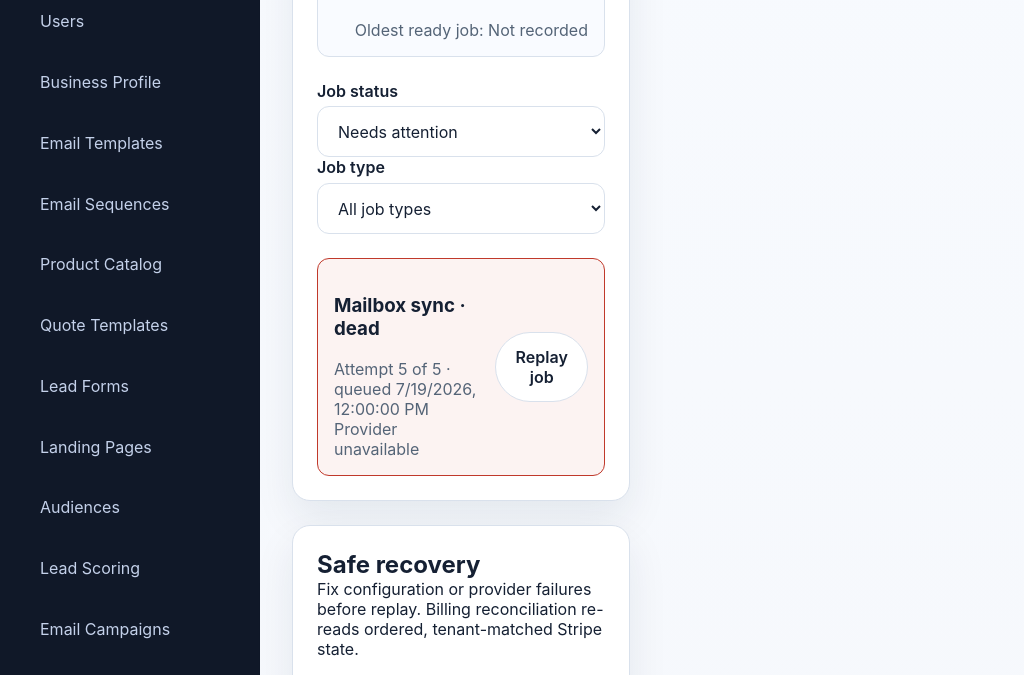
Test case: settings operations route › shows job health and lets an admin replay a safe dead job
(page scrolled)
Check: the text "Provider unavailable" is shown, box left=334, top=419, right=419, bottom=459
Click the button "Replay job" at (542, 367), box left=495, top=332, right=588, bottom=402
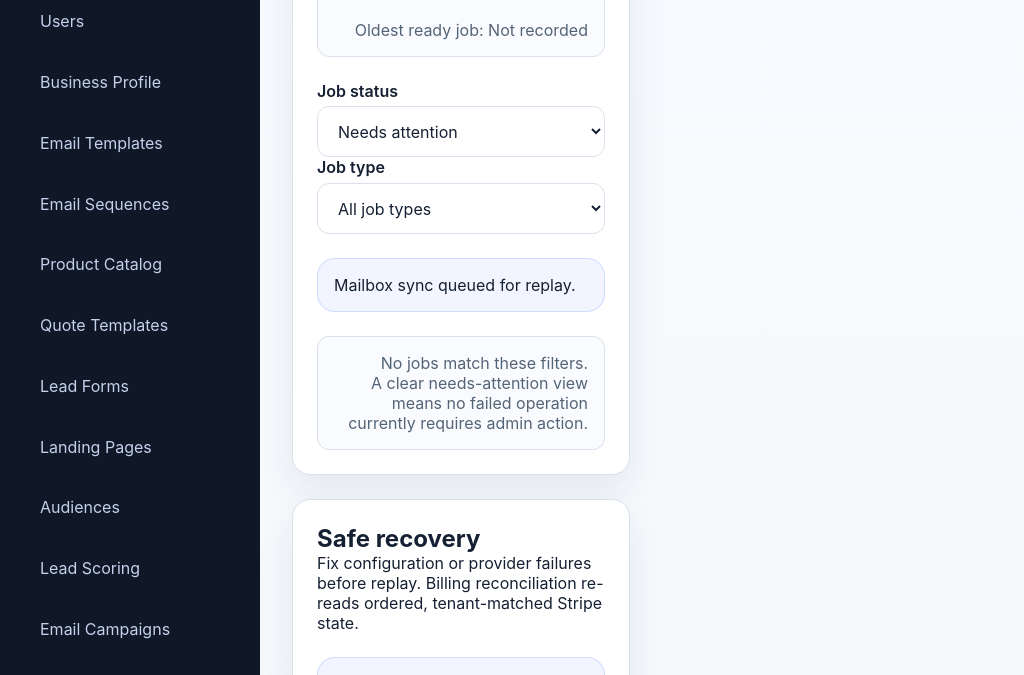
Check: the text "Mailbox sync queued for replay." is shown, box left=317, top=258, right=605, bottom=312
